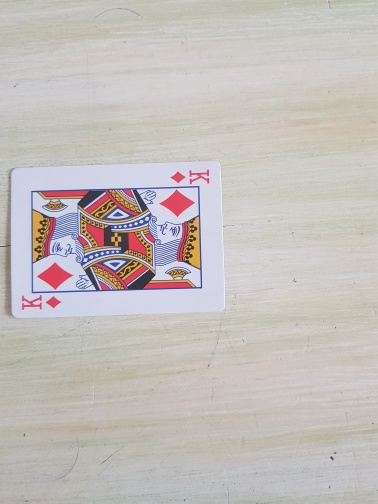king: (9, 160, 227, 319)
